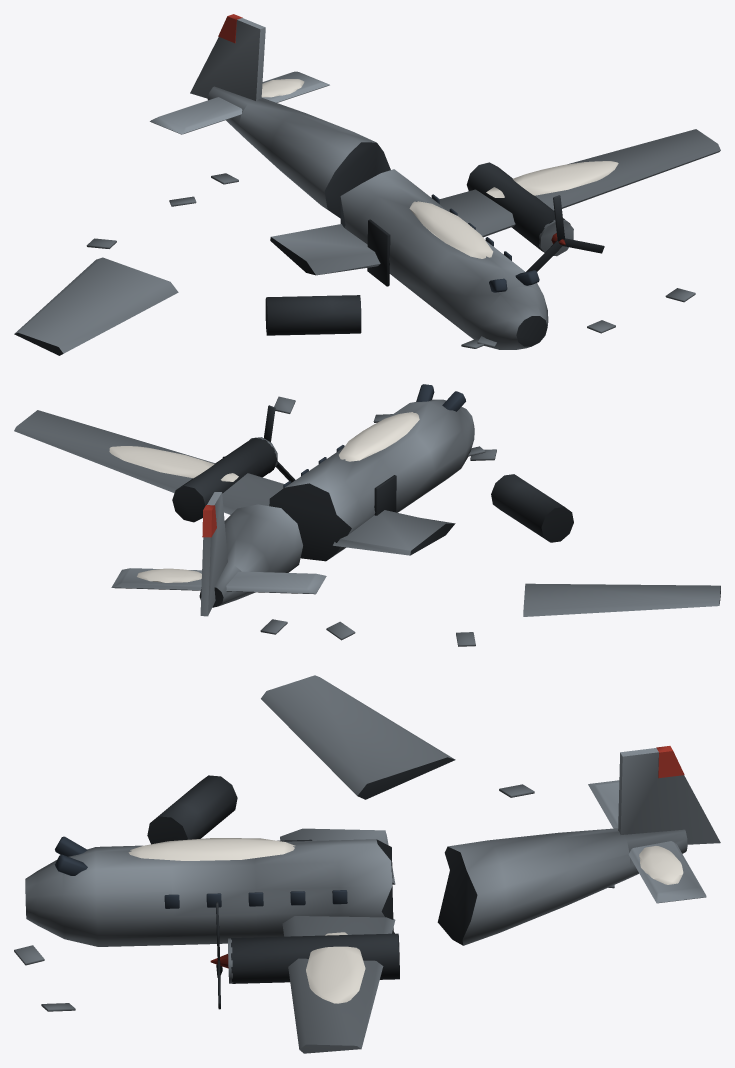
File: wreck_plane.glb
The picture shows the model from 3 angles, top to bottom: view 1: azimuth 30°, elevation 25°; view 2: azimuth 150°, elevation 25°; view 3: azimuth 270°, elevation 25°; orthographic projection. The views are drawn at different scales.
Parts seen in each view (by area): view 1: wreck_plane_zinc, wreck_plane_iron, wreck_plane_snow, wreck_plane_glass; view 2: wreck_plane_zinc, wreck_plane_iron, wreck_plane_snow, wreck_plane_glass, wreck_plane_signal_red; view 3: wreck_plane_zinc, wreck_plane_iron, wreck_plane_snow, wreck_plane_glass, wreck_plane_signal_red.
Part boxes in pixels (x1,y1,x2,y2): wreck_plane_zinc: (14,18,720,353); wreck_plane_iron: (14,142,604,355); wreck_plane_snow: (261,79,618,258); wreck_plane_glass: (431,194,539,292); wreck_plane_zinc: (14,396,720,646); wreck_plane_iron: (172,405,720,607); wreck_plane_snow: (109,412,419,582); wreck_plane_glass: (283,384,465,487); wreck_plane_signal_red: (202,505,216,537); wreck_plane_zinc: (14,675,720,1053); wreck_plane_iron: (147,757,477,1009); wreck_plane_snow: (128,838,683,1003); wreck_plane_glass: (54,836,347,908); wreck_plane_signal_red: (210,746,684,968).
Size of the model in its own units: 22.31 by 4.76 by 16.85.
